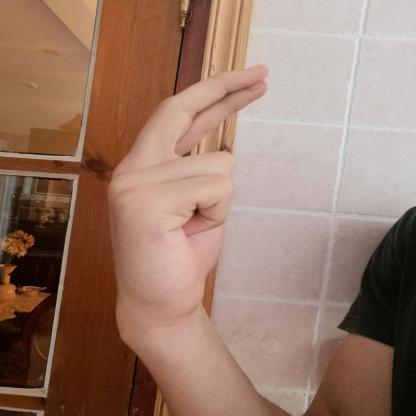ZAY: (89, 54, 288, 346)
